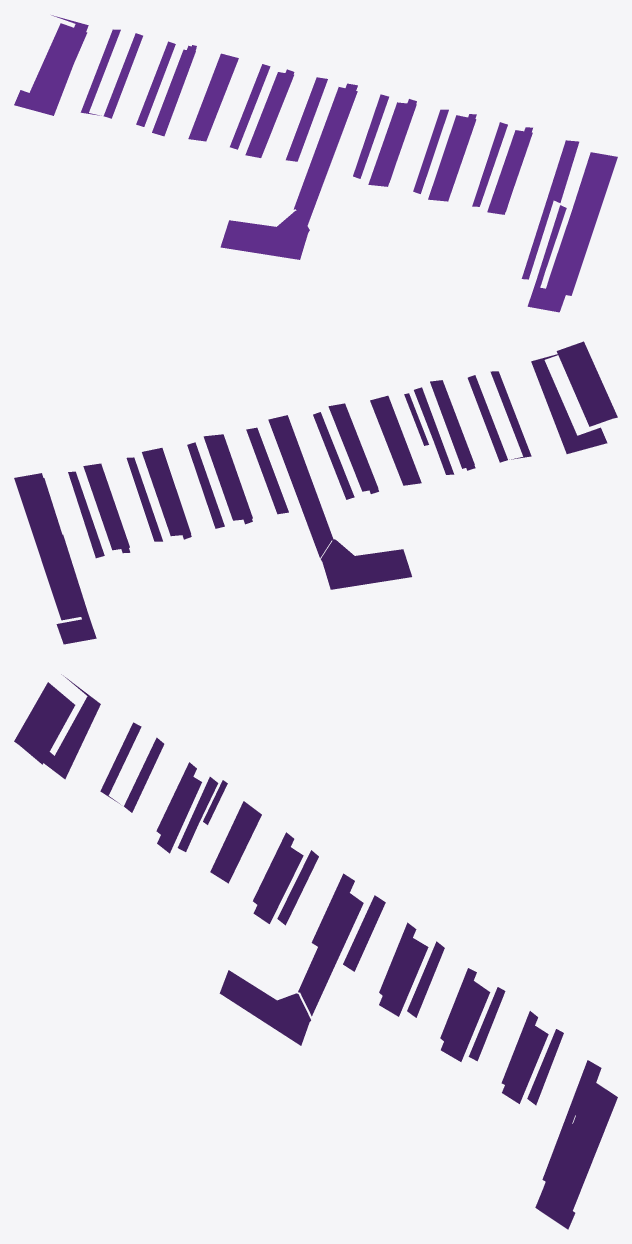
Rendered from Roof_Hini_2.0_Slope_1.5.obj.
3 views of the same model, one above another, from view 1: azimuth 30°, elevation 25°; view 2: azimuth 150°, elevation 25°; view 3: azimuth 330°, elevation 25° (orthographic). The views are drawn at different scales.
Parts seen in each view (by area): view 1: 1, 6, 2, 5, 4, 3, 8, 9, 7, 10; view 2: 6, 1, 2, 4, 5, 3, 8, 9, 7, 10; view 3: 6, 1, 2, 4, 5, 8, 3, 9, 7, 10.
Part boxes in pixels (x1=…): 1: x1=521, y1=140, x2=617, y2=312; 6: x1=220, y1=77, x2=357, y2=259; 2: x1=14, y1=15, x2=88, y2=115; 5: x1=413, y1=109, x2=476, y2=201; 4: x1=353, y1=94, x2=416, y2=186; 3: x1=472, y1=122, x2=532, y2=214; 8: x1=230, y1=64, x2=294, y2=157; 9: x1=136, y1=41, x2=196, y2=136; 7: x1=188, y1=53, x2=238, y2=141; 10: x1=80, y1=29, x2=142, y2=118; 6: x1=246, y1=415, x2=411, y2=589; 1: x1=14, y1=473, x2=96, y2=644; 2: x1=531, y1=341, x2=617, y2=453; 4: x1=187, y1=434, x2=252, y2=528; 5: x1=126, y1=448, x2=191, y2=541; 3: x1=68, y1=463, x2=130, y2=558; 8: x1=313, y1=403, x2=378, y2=499; 9: x1=404, y1=380, x2=475, y2=474; 7: x1=370, y1=395, x2=421, y2=485; 10: x1=467, y1=371, x2=531, y2=462; 6: x1=219, y1=873, x2=385, y2=1045; 1: x1=535, y1=1060, x2=617, y2=1229; 2: x1=14, y1=674, x2=100, y2=779; 4: x1=379, y1=922, x2=444, y2=1017; 5: x1=440, y1=968, x2=505, y2=1061; 8: x1=253, y1=832, x2=318, y2=925; 3: x1=501, y1=1011, x2=563, y2=1105; 9: x1=156, y1=762, x2=227, y2=853; 7: x1=210, y1=801, x2=261, y2=883; 10: x1=100, y1=722, x2=164, y2=812.
Size of the model in its own units: 136 by 91 by 7.91.
